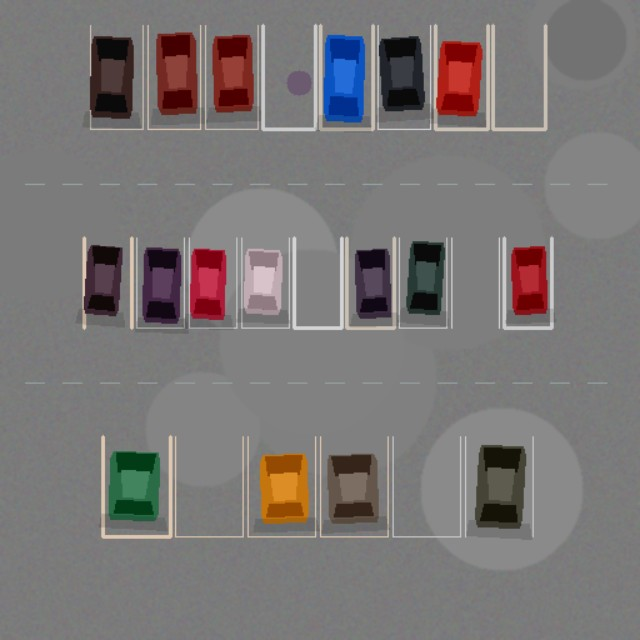space-empty: (175, 436, 243, 536), (393, 436, 460, 536), (263, 25, 315, 129), (493, 25, 545, 129), (451, 237, 499, 327), (294, 237, 341, 327)
space-occupied: (247, 436, 315, 536), (465, 436, 533, 536), (103, 436, 170, 536), (320, 436, 387, 536), (90, 25, 143, 129), (147, 25, 200, 129), (320, 25, 373, 129), (377, 25, 430, 129), (205, 25, 257, 129), (435, 25, 487, 129), (136, 237, 184, 327), (241, 237, 289, 327), (346, 237, 394, 327), (84, 237, 131, 327), (189, 237, 236, 327), (399, 237, 446, 327), (504, 237, 551, 327)
